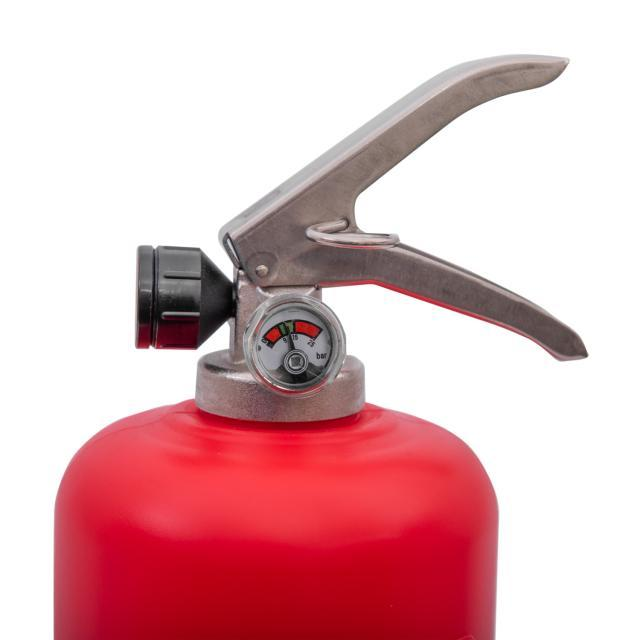pressure gauge: (245, 298, 343, 392)
